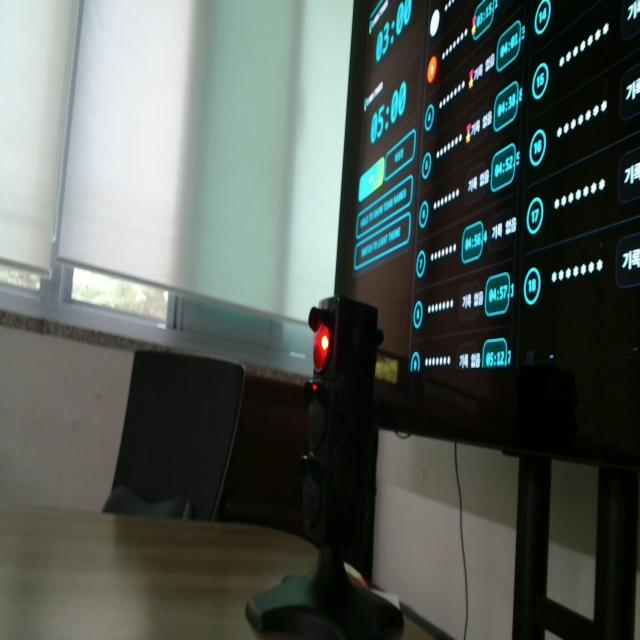red_light: (314, 323, 330, 371)
